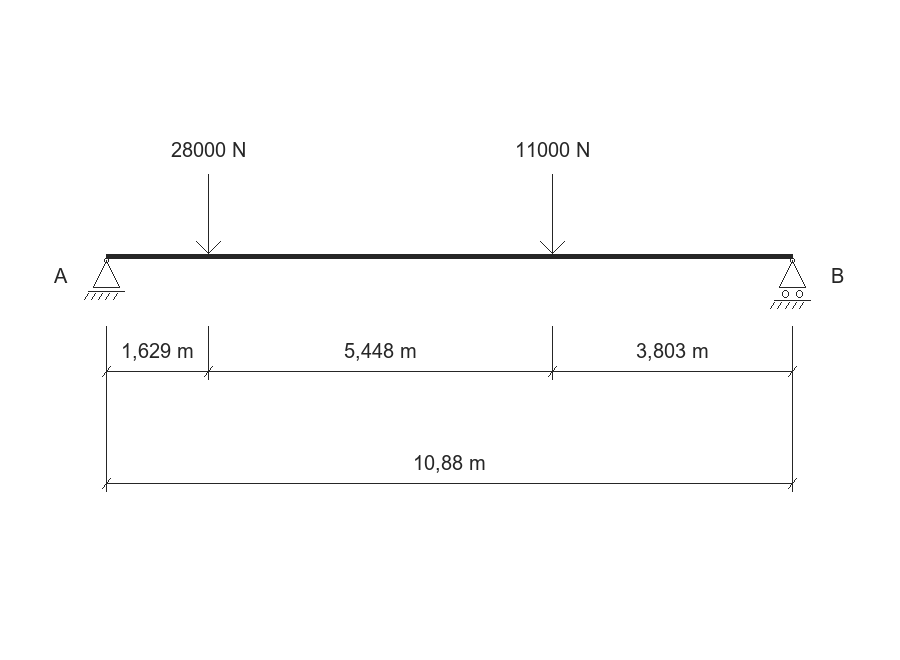pin_support: (84, 258, 125, 300)
point_load: (196, 174, 221, 254), (540, 174, 565, 254)
roller_support: (770, 258, 811, 309)
